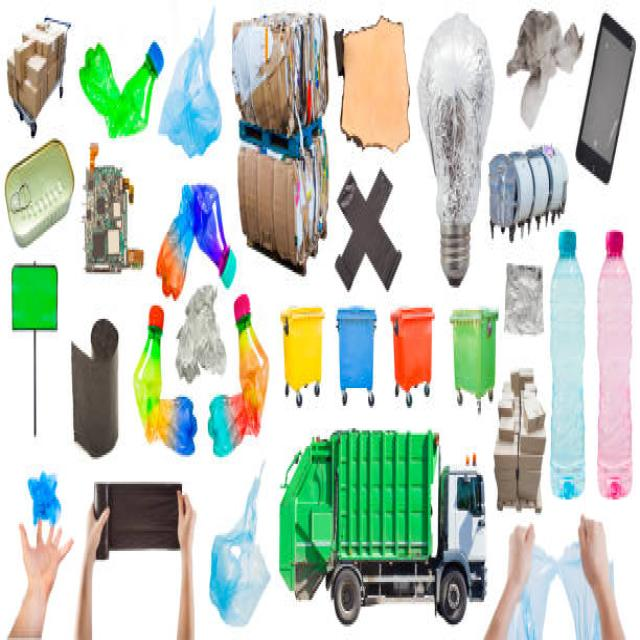cardboard: (235, 16, 328, 245), (3, 9, 80, 127)
plastic: (139, 194, 266, 466), (549, 223, 638, 504)
